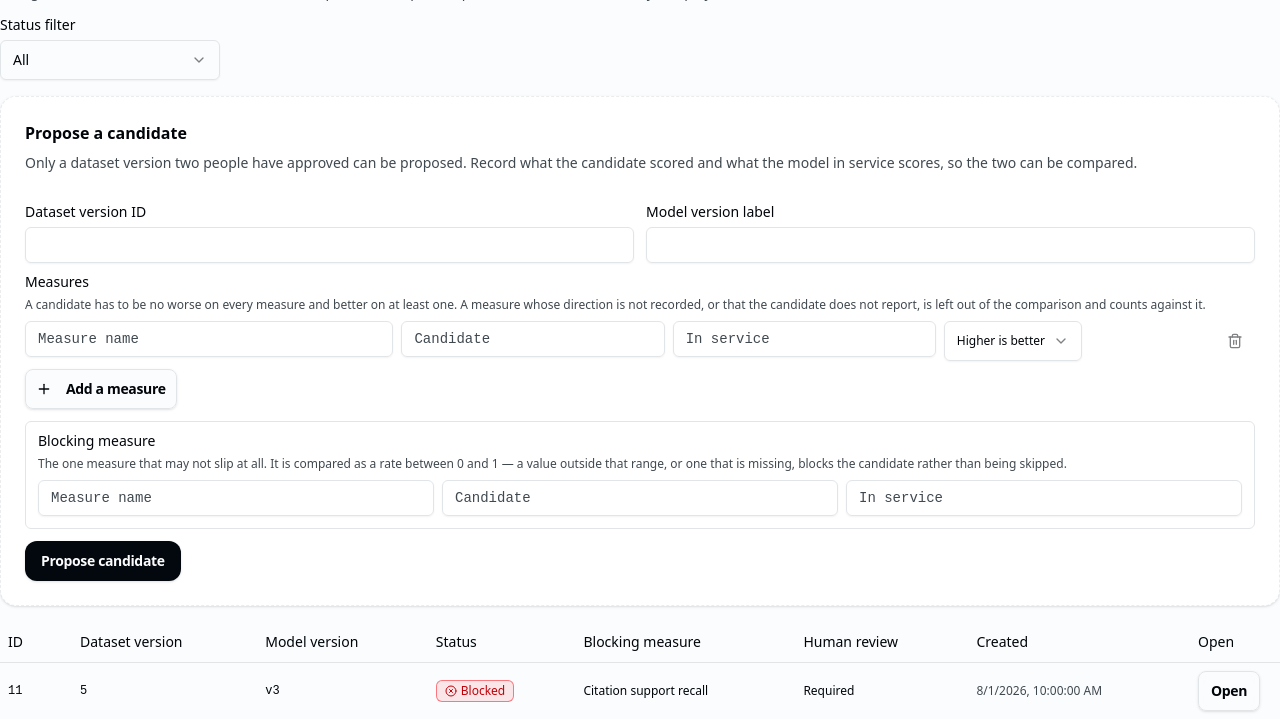
Test case: KnowledgeDeploymentConveyor › shows a refusal's reasons verbatim rather than summarising them
(page scrolled)
Click the button "Open".
click(1229, 690)  # box left=1198, top=670, right=1260, bottom=710
(page scrolled)
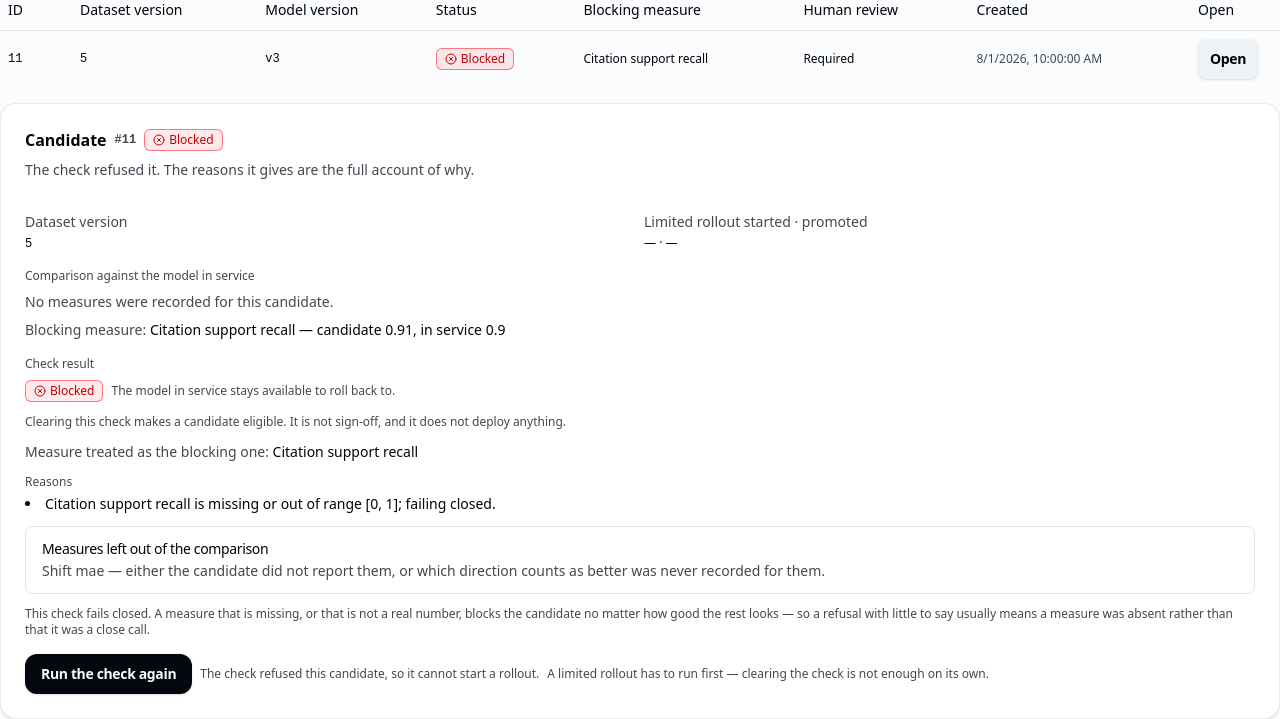
expect the list item "Citation support recall is missing or out of range [0, 1]; failing closed." is shown: met, box left=45, top=494, right=496, bottom=512
expect the text "fails closed" is shown: met, box left=25, top=604, right=1233, bottom=638
expect the text "Shift mae" is shown: met, box left=42, top=560, right=104, bottom=580
